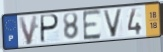4: (127, 7, 144, 37)
8: (62, 12, 80, 42)
E: (81, 8, 102, 42)
P: (39, 14, 61, 45)
V: (17, 14, 40, 47), (102, 8, 124, 39)
